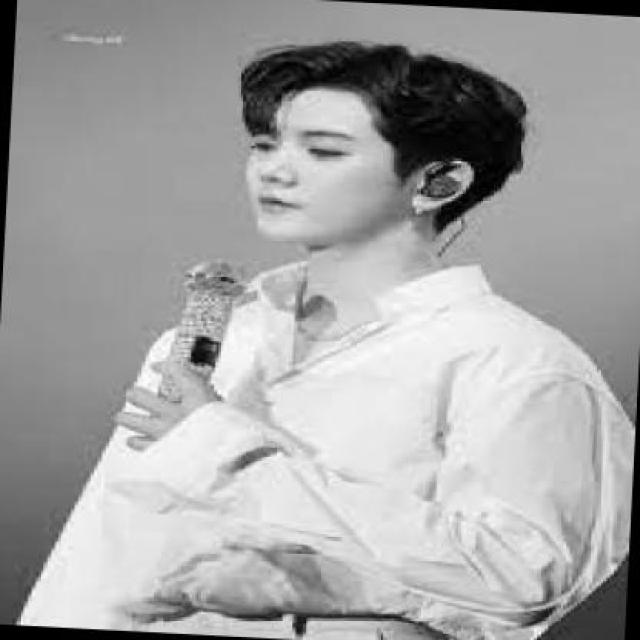earphone: (413, 162, 473, 218)
